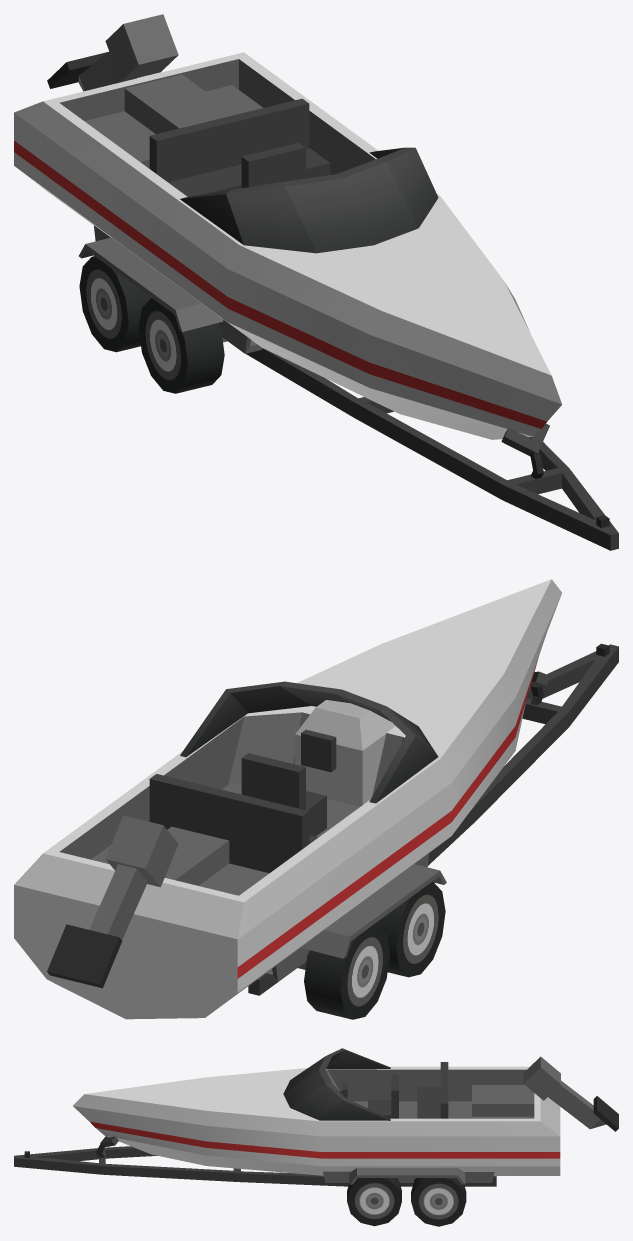
The model's file is CarTrailerA.fbx.
The picture shows the model from 3 angles, top to bottom: view 1: azimuth 30°, elevation 25°; view 2: azimuth 150°, elevation 25°; view 3: azimuth 270°, elevation 25°; orthographic projection. The views are drawn at different scales.
Visible parts, largest first — view 1: Boat, CarTrailerA, TireFR, TireBR; view 2: Boat, CarTrailerA, TireBR, TireFR; view 3: Boat, CarTrailerA, TireBL, TireFL.
Part boxes in pixels (x1,y1,x2,y2): Boat: [14, 14, 561, 439]; CarTrailerA: [79, 225, 618, 550]; TireFR: [138, 298, 224, 393]; TireBR: [79, 256, 151, 352]; Boat: [14, 579, 561, 1019]; CarTrailerA: [248, 643, 618, 995]; TireBR: [304, 923, 389, 1019]; TireFR: [375, 881, 445, 977]; Boat: [73, 1048, 618, 1175]; CarTrailerA: [14, 1136, 496, 1186]; TireBL: [411, 1178, 466, 1226]; TireFL: [347, 1178, 401, 1226].
Size of the model in its own units: 201 by 168 by 713.
